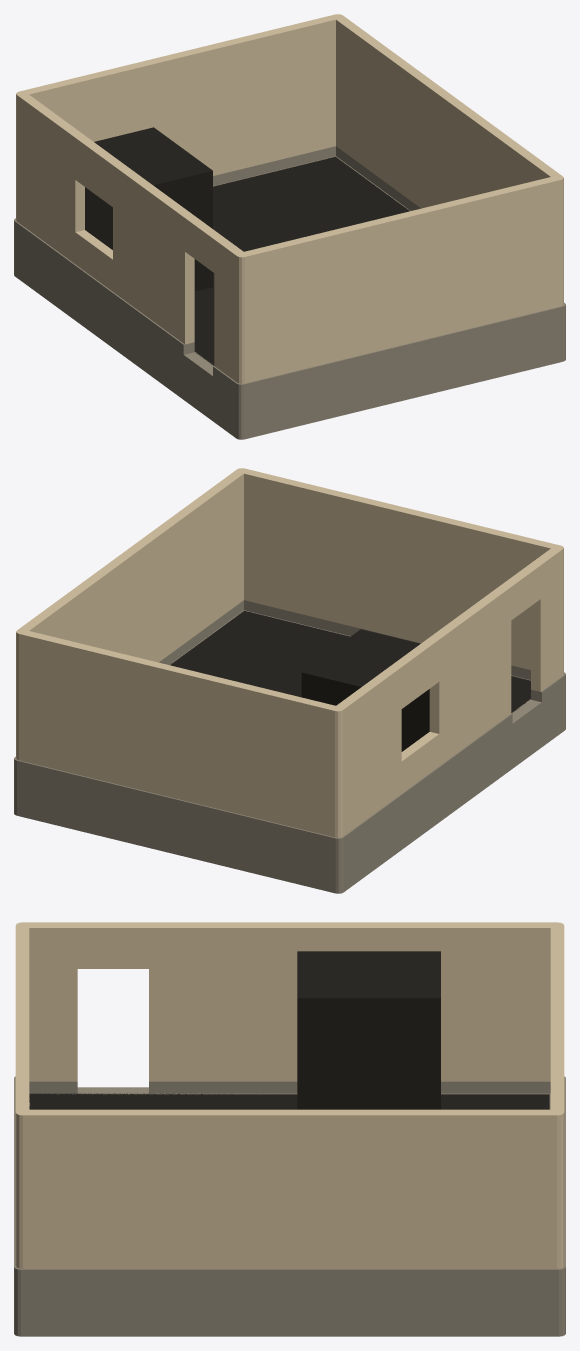
File: SM_Homes_H02_Shell_LOD1.fbx
3 views of the same model, one above another, from view 1: azimuth 30°, elevation 25°; view 2: azimuth 150°, elevation 25°; view 3: azimuth 270°, elevation 25° (orthographic). The views are drawn at different scales.
Parts seen in each view (by area): view 1: SM_Homes_H02_Shell_LOD1; view 2: SM_Homes_H02_Shell_LOD1; view 3: SM_Homes_H02_Shell_LOD1.
Part boxes in pixels (bbox=[...]): SM_Homes_H02_Shell_LOD1: bbox=[14, 14, 565, 439]; SM_Homes_H02_Shell_LOD1: bbox=[14, 468, 565, 893]; SM_Homes_H02_Shell_LOD1: bbox=[14, 922, 565, 1336].
Bounding box in the file's own units: 7.56 × 9.06 × 3.99.
